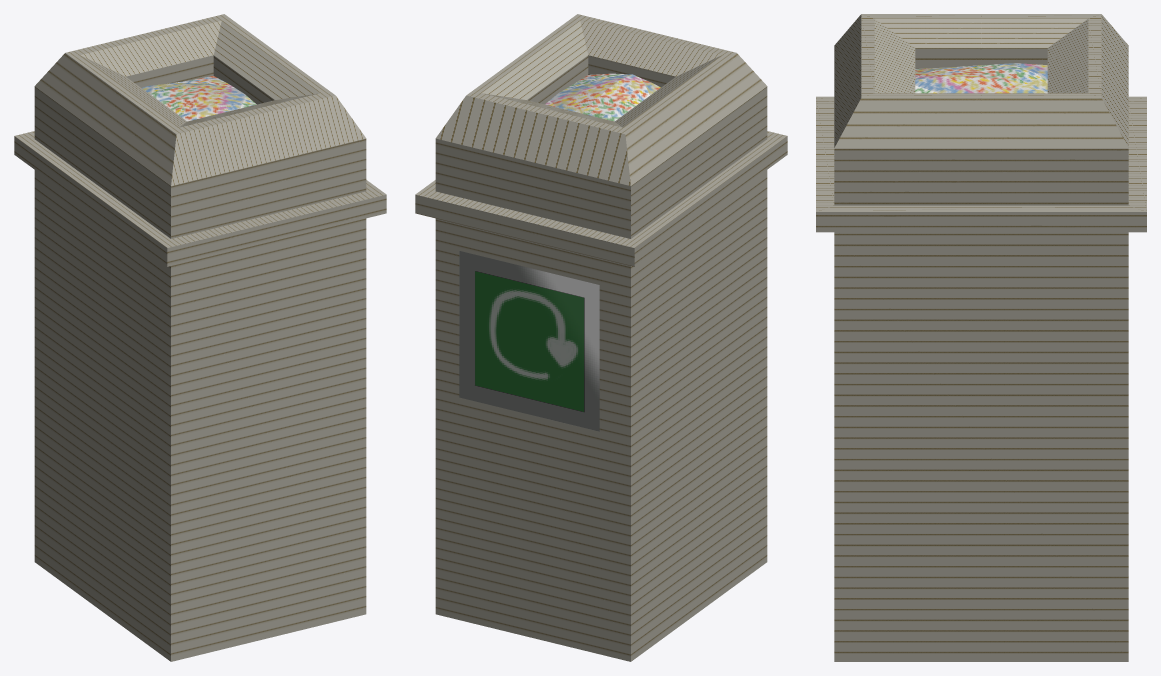
Rendered from bin backup.fbx.
The picture shows the model from 3 angles, left to right: view 1: azimuth 30°, elevation 25°; view 2: azimuth 150°, elevation 25°; view 3: azimuth 270°, elevation 25°; orthographic projection. The views are drawn at different scales.
Parts seen in each view (by area): view 1: Cube, Plane.001; view 2: Cube, Plane, Plane.001; view 3: Cube, Plane.001.
Part boxes in pixels (x1,y1,x2,y2): Cube: (14, 14, 386, 661); Plane.001: (142, 76, 256, 121); Cube: (415, 14, 787, 661); Plane: (459, 251, 599, 431); Plane.001: (545, 73, 660, 121); Cube: (816, 14, 1146, 661); Plane.001: (915, 63, 1047, 93).
Bounding box in the file's own units: 1.31 × 2.94 × 1.59.
